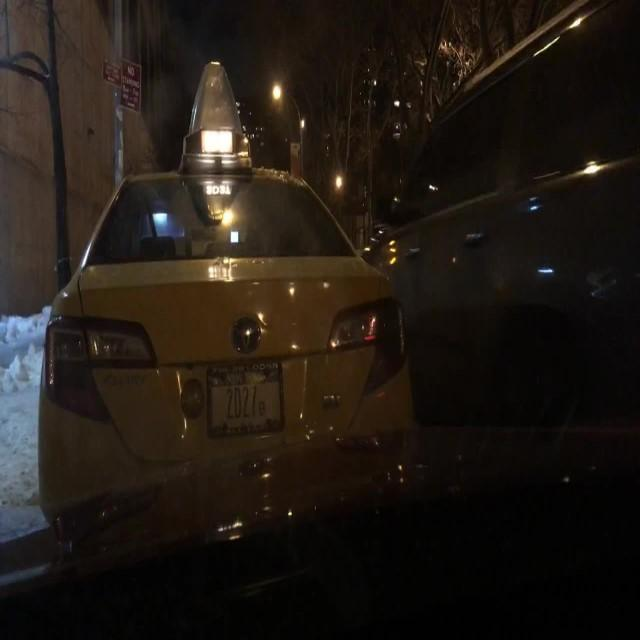multiple_accident: (16, 45, 541, 580)
